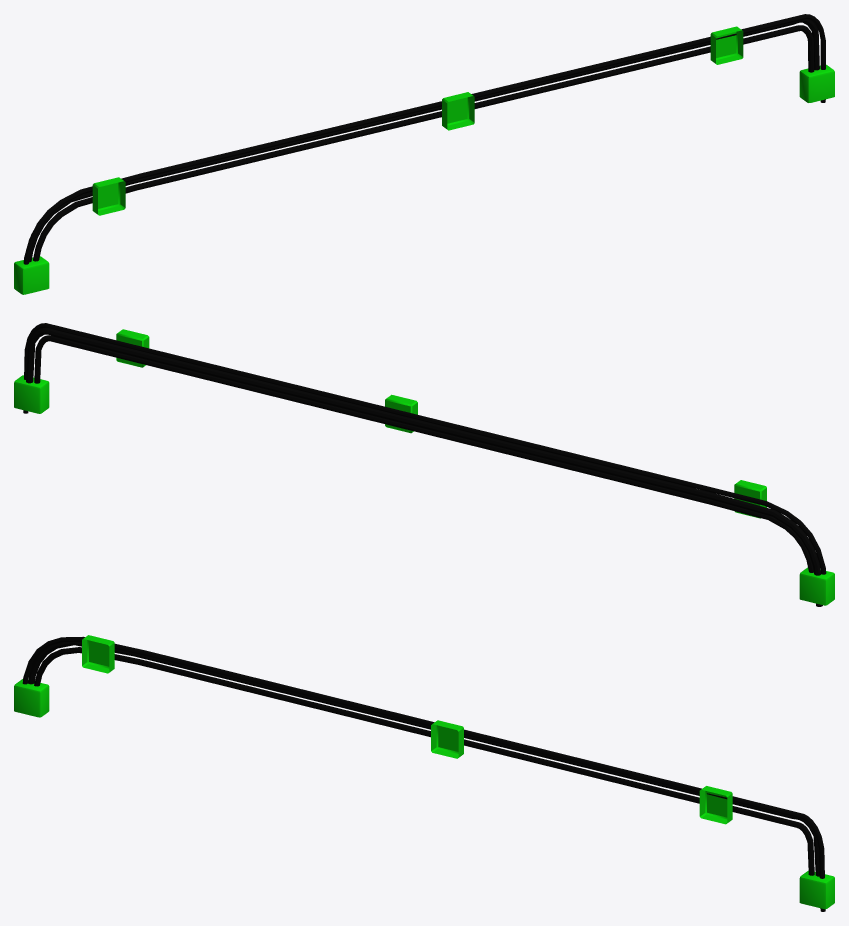
The model's file is CablesModelV2.fbx.
The picture shows the model from 3 angles, top to bottom: view 1: azimuth 30°, elevation 25°; view 2: azimuth 150°, elevation 25°; view 3: azimuth 330°, elevation 25°; orthographic projection.
Parts seen in each view (by area): view 1: CablesModelV2; view 2: CablesModelV2; view 3: CablesModelV2.
Boxes of the visible parts, x1,y1,x2,y2 form: CablesModelV2: [14, 14, 834, 294]; CablesModelV2: [14, 323, 834, 606]; CablesModelV2: [14, 635, 834, 911].
Size of the model in its own units: 303 by 35.35 by 8.47.
